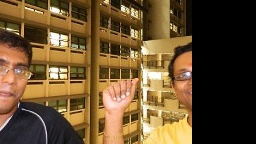Pugno: (98, 78, 142, 110)
